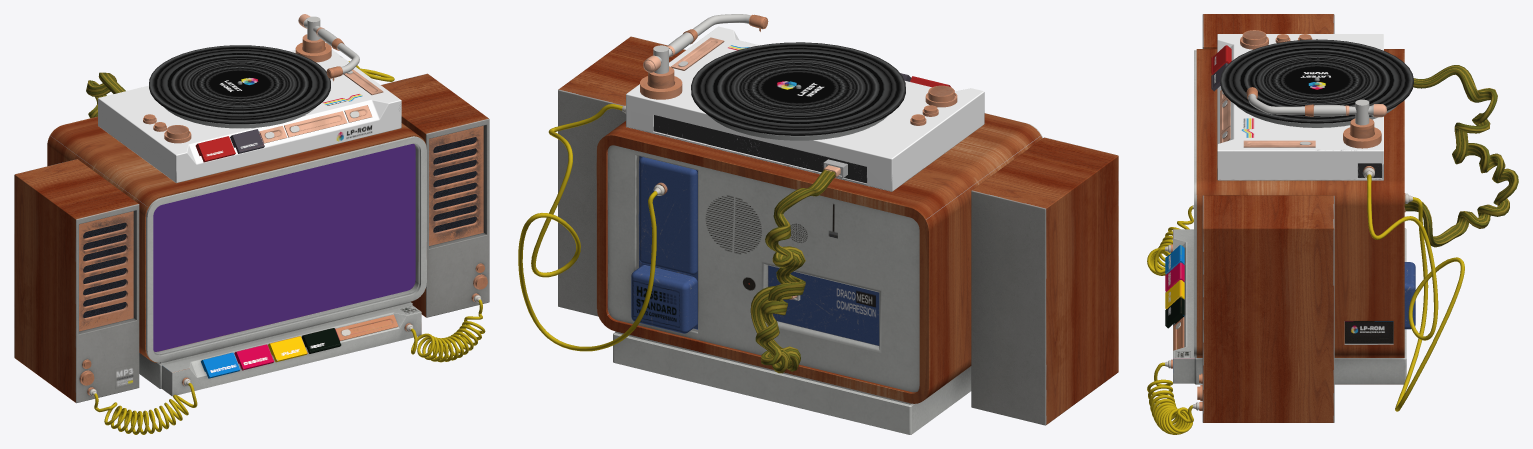
File: LP-ROM-Babylon.gltf
3 views of the same model, side by side, from view 1: azimuth 30°, elevation 25°; view 2: azimuth 150°, elevation 25°; view 3: azimuth 270°, elevation 25° (orthographic). The views are drawn at different scales.
Visible parts, largest first — view 1: screen, SPEAKER_RT_Box, TV_MESHES, TT_Base, SPEAKER_LT_Box, lpRecord3, nurbsToPoly9 (1), nurbsToPoly9, Needle_pCylinder2, pTorus3, pauseBTN, motionBTN (+5 smaller); view 2: TV_MESHES, SPEAKER_RT_Box, TT_Base, lpRecord3, SPEAKER_LT_Box, Needle_pCylinder2, turnTable, pPipe6; view 3: SPEAKER_LT_Box, TV_MESHES, TT_Base, lpRecord3, SPEAKER_RT_Box, Needle_pCylinder2, nurbsToPoly9, nurbsToPoly9 (1), turnTable, pPipe6, resetBTN1, pauseBTN (+2 smaller).
Part boxes in pixels (x1,y1,x2,y2): screen: (153,144,415,351); SPEAKER_RT_Box: (14,159,139,403); TV_MESHES: (47,61,426,396); TT_Base: (86,49,401,182); SPEAKER_LT_Box: (381,73,489,317); lpRecord3: (149,45,330,124); nurbsToPoly9 (1): (87,377,197,434); nurbsToPoly9: (404,293,485,362); Needle_pCylinder2: (298,14,359,81); pTorus3: (335,314,398,340); pauseBTN: (195,136,235,162); motionBTN: (201,352,240,378); TV_MESHES: (518,104,1042,434); SPEAKER_RT_Box: (971,137,1118,425); TT_Base: (626,26,984,373); lpRecord3: (691,42,905,135); SPEAKER_LT_Box: (558,36,685,316); Needle_pCylinder2: (643,14,768,88); turnTable: (708,84,888,140); pPipe6: (640,76,682,99); SPEAKER_LT_Box: (1202,195,1334,422); TV_MESHES: (1173,49,1464,411); TT_Base: (1217,30,1518,247); lpRecord3: (1220,39,1413,123); SPEAKER_RT_Box: (1202,14,1334,48); Needle_pCylinder2: (1246,87,1386,138); nurbsToPoly9: (1147,359,1202,434); nurbsToPoly9 (1): (1147,205,1193,275); turnTable: (1236,77,1396,127); pPipe6: (1343,127,1381,148); resetBTN1: (1165,297,1184,328); pauseBTN: (1211,45,1231,74).
Size of the model in its own units: 0.2351 by 0.154 by 0.1723.
Materials: 5 (4 with a texture image).
